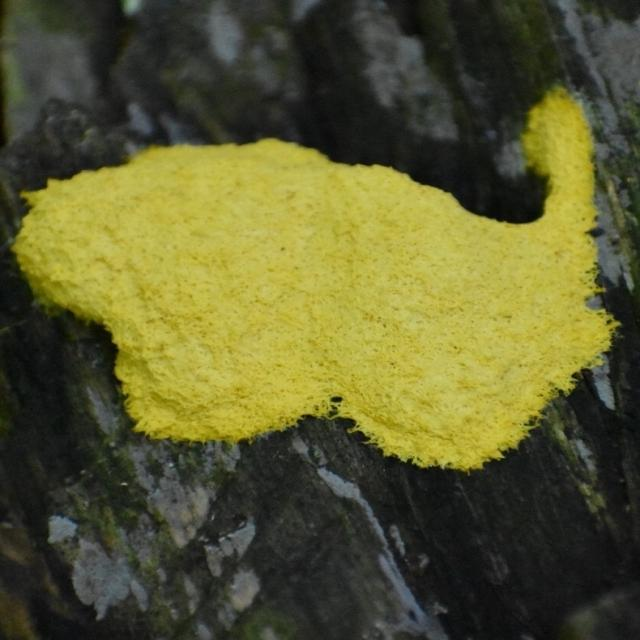Dog_vomit_slime_mold: (0, 58, 640, 494)
